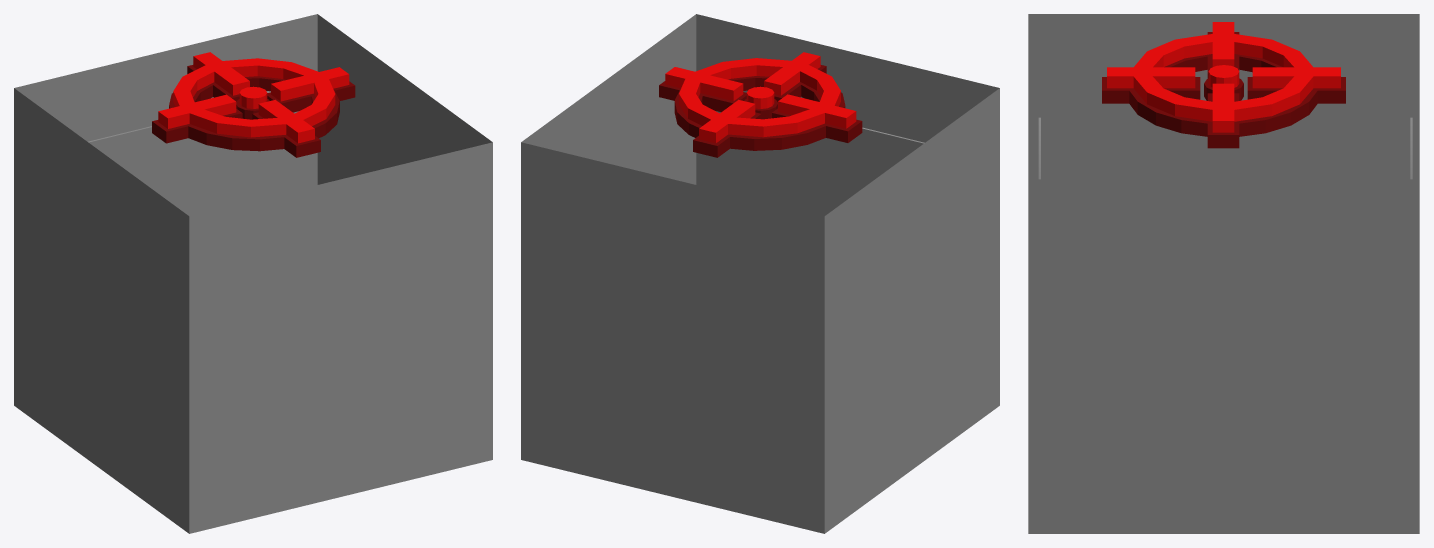
The model's file is SensorRoom.FBX.
3 views of the same model, side by side, from view 1: azimuth 30°, elevation 25°; view 2: azimuth 150°, elevation 25°; view 3: azimuth 270°, elevation 25° (orthographic). The views are drawn at different scales.
Visible parts, largest first — view 1: SensorRoom; view 2: SensorRoom; view 3: SensorRoom.
Part boxes in pixels (<box>): SensorRoom: <box>14,14,492,533</box>; SensorRoom: <box>521,14,999,533</box>; SensorRoom: <box>1028,14,1419,533</box>.
Size of the model in its own units: 197 by 212 by 197.
